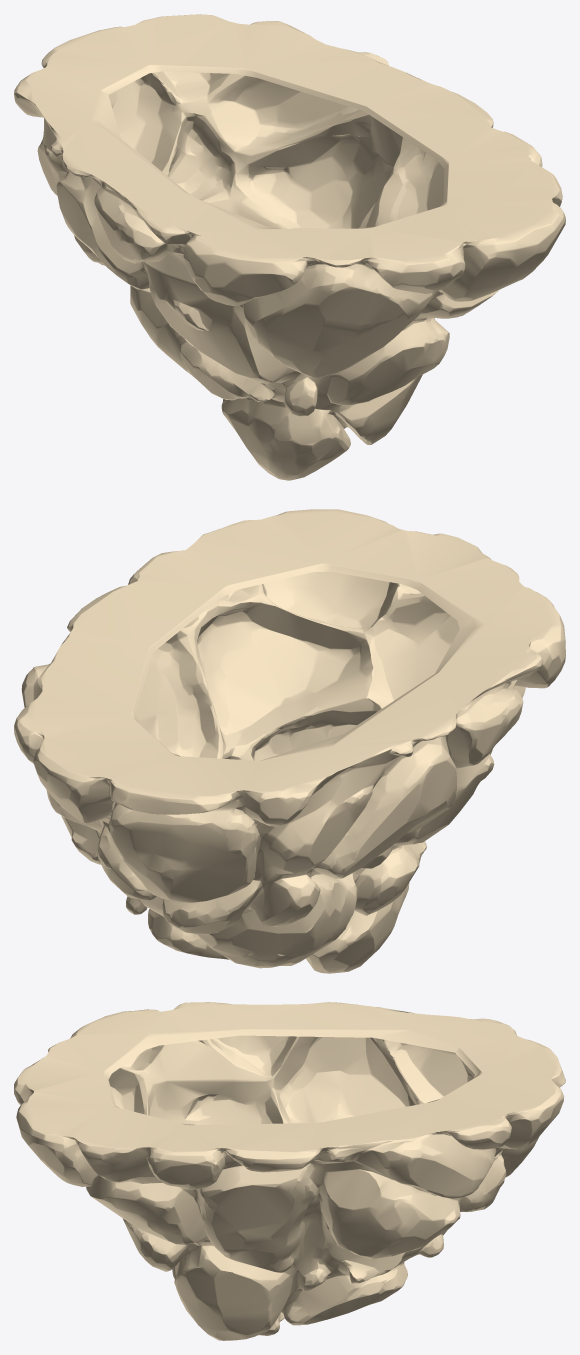
File: island_1_LOD1.fbx
The picture shows the model from 3 angles, top to bottom: view 1: azimuth 30°, elevation 25°; view 2: azimuth 150°, elevation 25°; view 3: azimuth 270°, elevation 25°; orthographic projection. The views are drawn at different scales.
Parts seen in each view (by area): view 1: island_1_LOD1; view 2: island_1_LOD1; view 3: island_1_LOD1.
Part boxes in pixels (left/top/right/bottom): island_1_LOD1: left=14, top=14, right=565, bottom=480; island_1_LOD1: left=14, top=509, right=565, bottom=973; island_1_LOD1: left=14, top=1002, right=565, bottom=1340.
Bounding box in the file's own units: 2161 × 1696 × 3228.
